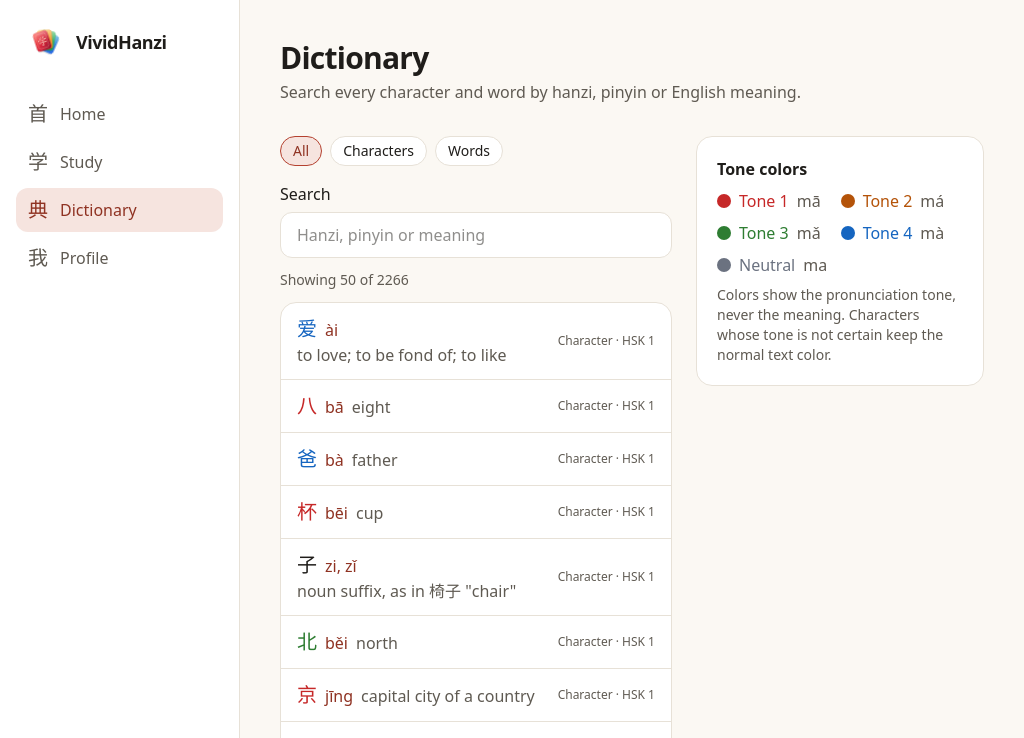
Test: DictionaryPage › says so when there are no results
The image size is (1024, 738).
Type "zzzz" into the search field labelled "Search" at {"x": 476, "y": 235}, box [280,212,672,258]
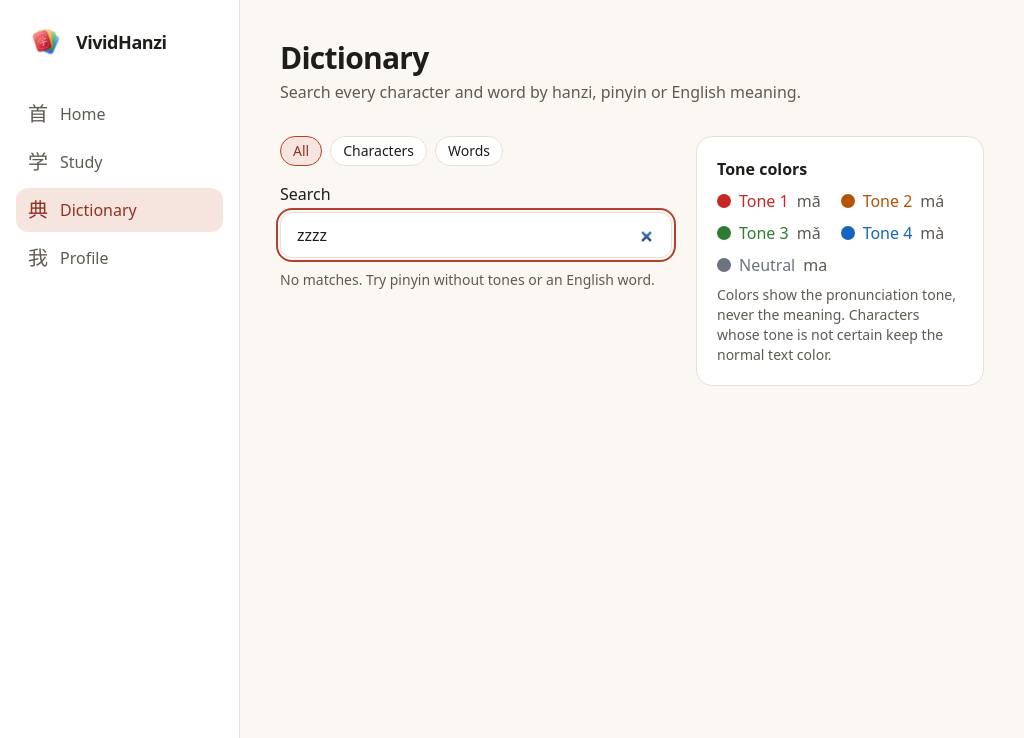
Now the text "No matches. Try pinyin without tones or an English word." is shown, box [280,270,672,290]
